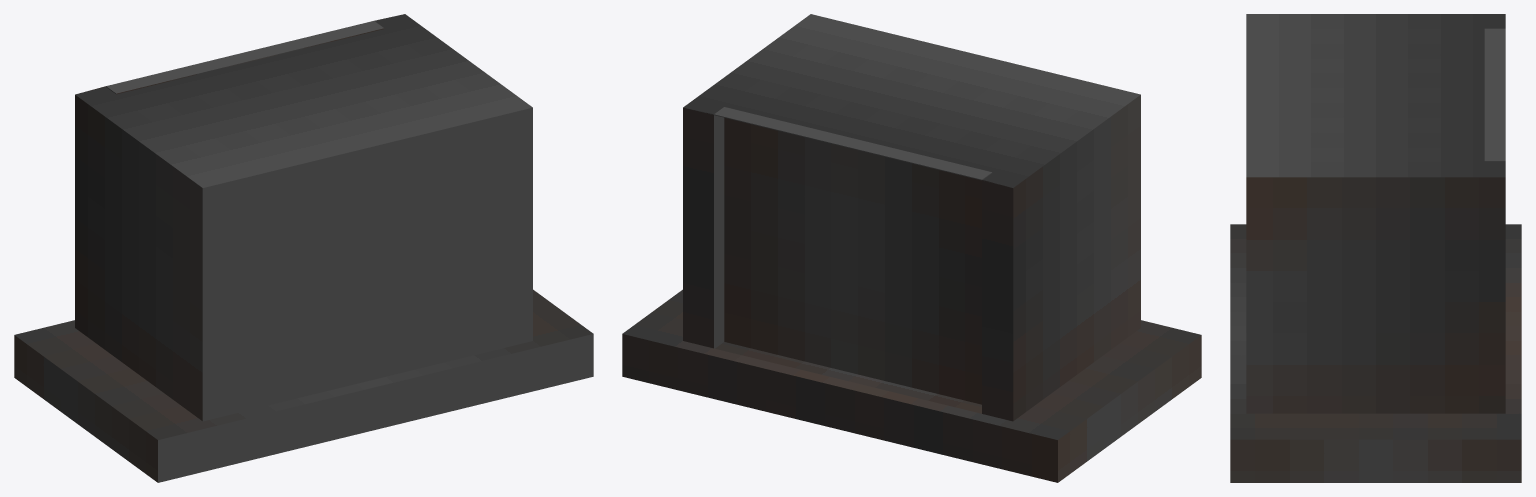
The model's file is press_head.obj.
3 renders of one model, left to right at view 1: azimuth 30°, elevation 25°; view 2: azimuth 150°, elevation 25°; view 3: azimuth 270°, elevation 25°, orthographic.
Parts seen in each view (by area): view 1: Куб.011; view 2: Куб.011; view 3: Куб.011.
Part boxes in pixels (x1=…): Куб.011: x1=14, y1=14, x2=593, y2=482; Куб.011: x1=622, y1=14, x2=1201, y2=482; Куб.011: x1=1230, y1=14, x2=1521, y2=482.
Bounding box in the file's own units: 0.4621 × 0.2807 × 0.2642.
